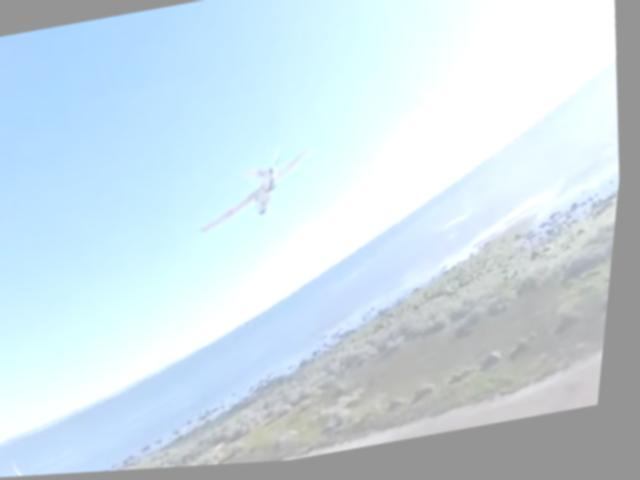uav: (191, 151, 322, 239)
